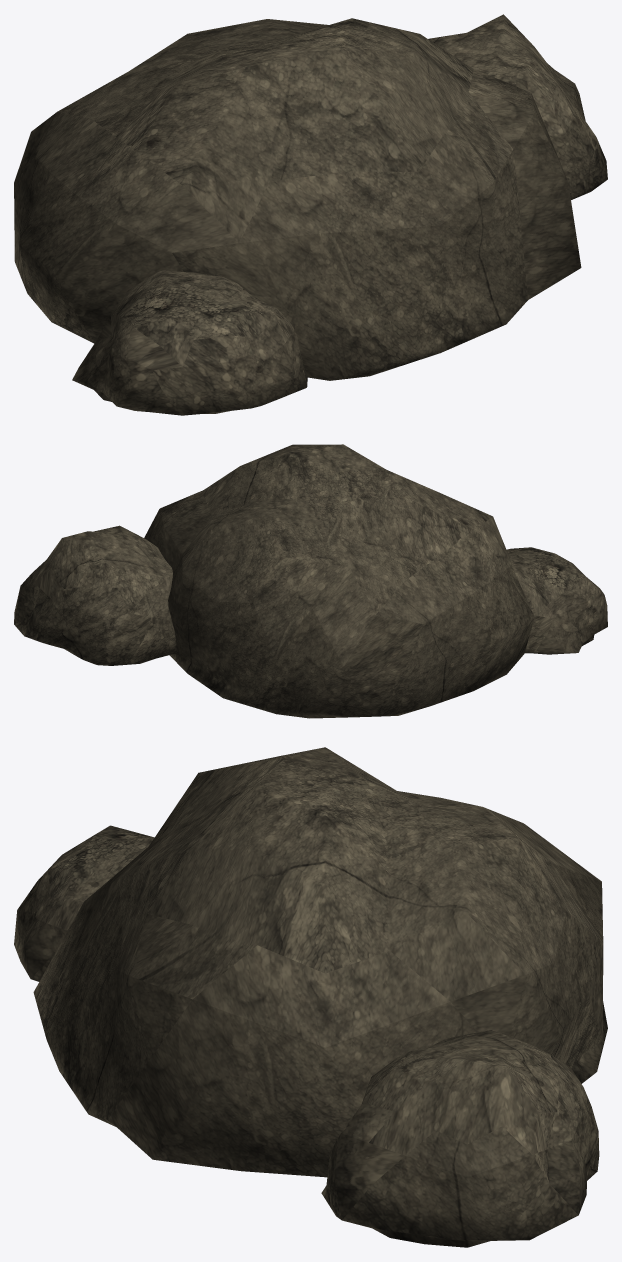
File: rock_small_01_real.gltf
3 renders of one model, top to bottom at view 1: azimuth 30°, elevation 25°; view 2: azimuth 150°, elevation 25°; view 3: azimuth 270°, elevation 25°, orthographic. The views are drawn at different scales.
Parts seen in each view (by area): view 1: rock_small_01; view 2: rock_small_01; view 3: rock_small_01.
Part boxes in pixels (x1,y1,x2,y2): rock_small_01: [14, 14, 607, 415]; rock_small_01: [14, 444, 607, 718]; rock_small_01: [14, 747, 607, 1247].
Size of the model in its own units: 1.29 by 0.5281 by 0.9205.
3 materials, 3 textured.
